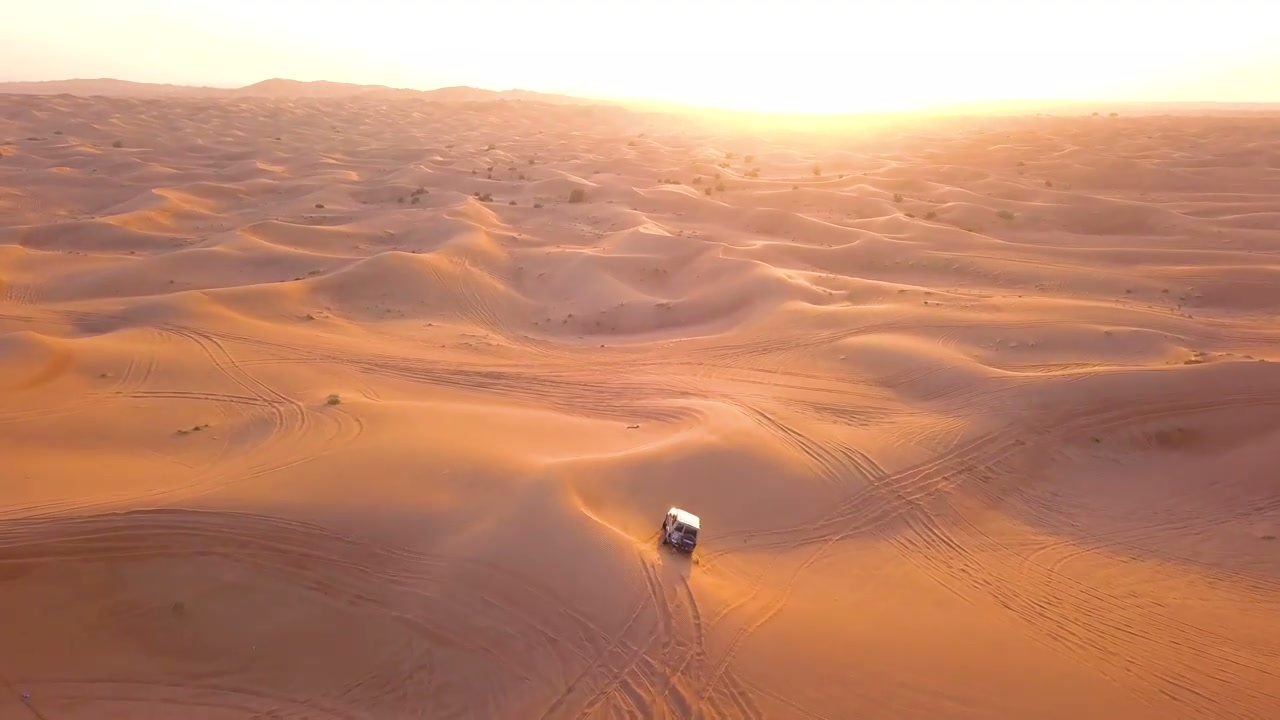vehicle_track: (0, 510, 612, 676), (718, 391, 1279, 548), (890, 505, 1279, 717), (218, 333, 697, 420), (135, 326, 363, 500), (539, 552, 762, 719), (717, 431, 1024, 549), (697, 537, 839, 716), (539, 567, 665, 719), (655, 572, 762, 719), (575, 558, 672, 718), (39, 678, 365, 719), (737, 403, 885, 489), (0, 353, 157, 424), (0, 280, 38, 305)
